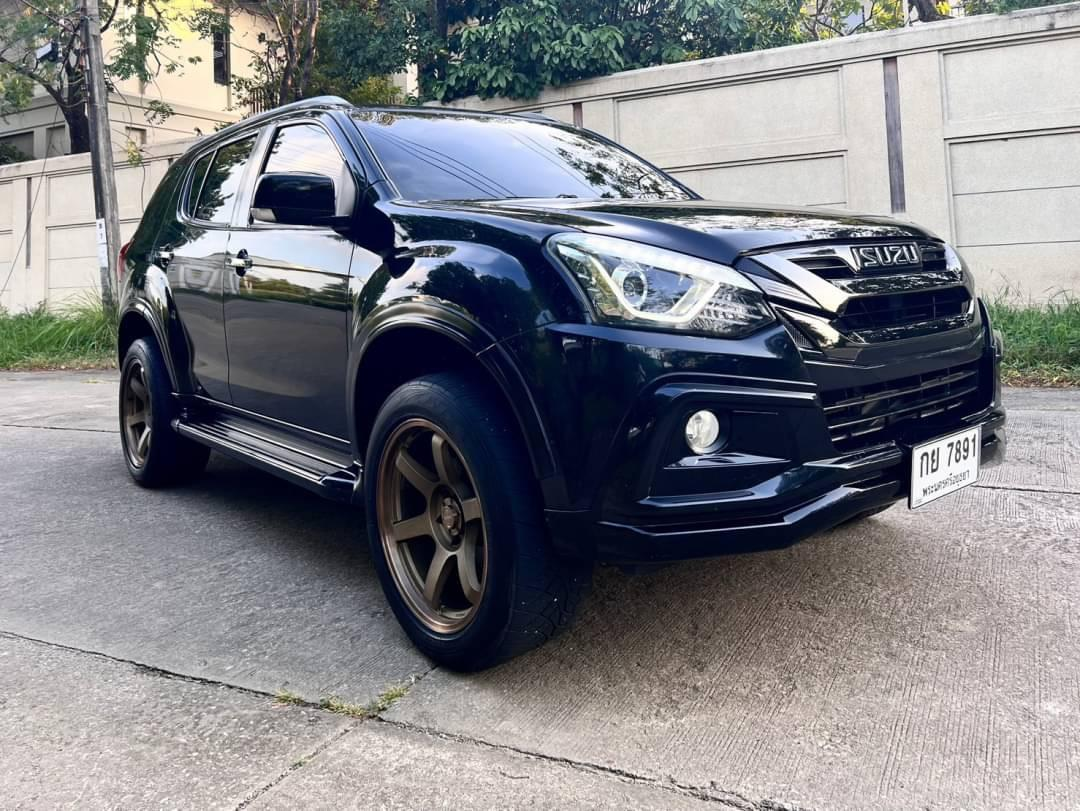license-plate: (896, 418, 991, 513)
